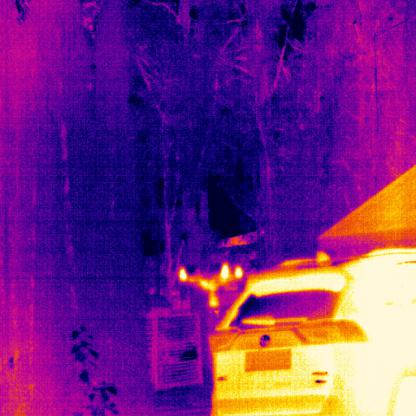drone: (179, 263, 242, 306)
